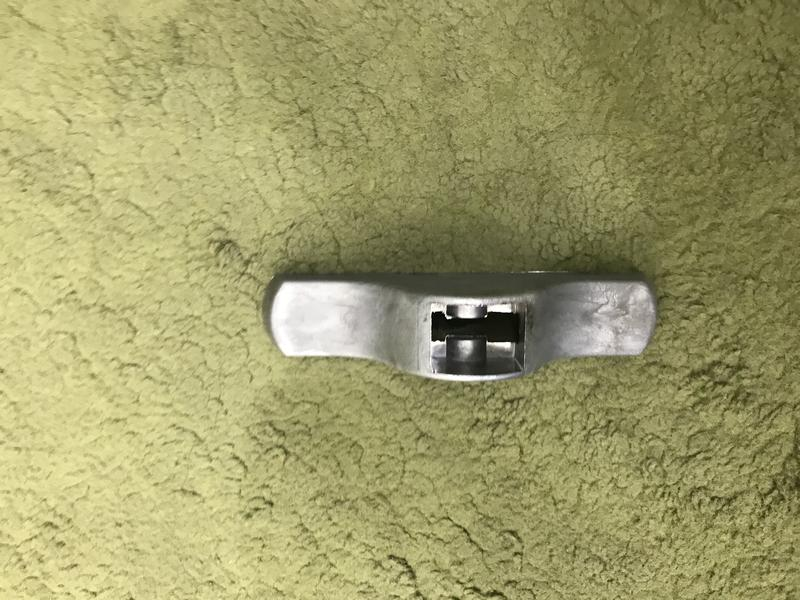zapchast: (232, 250, 687, 391)
